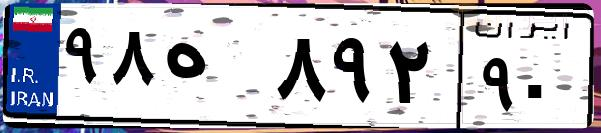0: (525, 38, 570, 115)
2: (385, 28, 445, 110)
8: (270, 28, 330, 110), (110, 28, 158, 98)
9: (330, 28, 385, 110), (57, 26, 110, 100), (475, 38, 525, 113)
ه: (158, 20, 270, 120)
